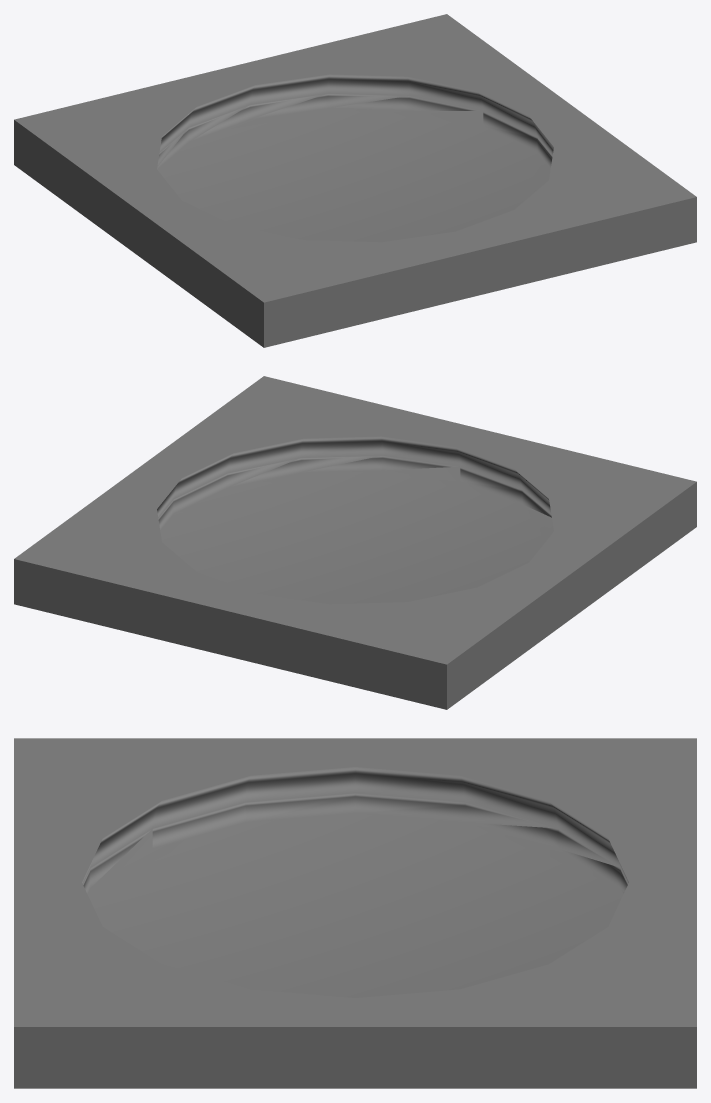
The model's file is button_block 1.fbx.
3 renders of one model, top to bottom at view 1: azimuth 30°, elevation 25°; view 2: azimuth 150°, elevation 25°; view 3: azimuth 270°, elevation 25°, orthographic. The views are drawn at different scales.
Visible parts, largest first — view 1: Cube; view 2: Cube; view 3: Cube.
Boxes of the visible parts, bbox=[...] form: Cube: bbox=[14, 14, 696, 347]; Cube: bbox=[14, 376, 696, 709]; Cube: bbox=[14, 738, 696, 1088].
Size of the model in its own units: 1 by 0.1 by 1.
